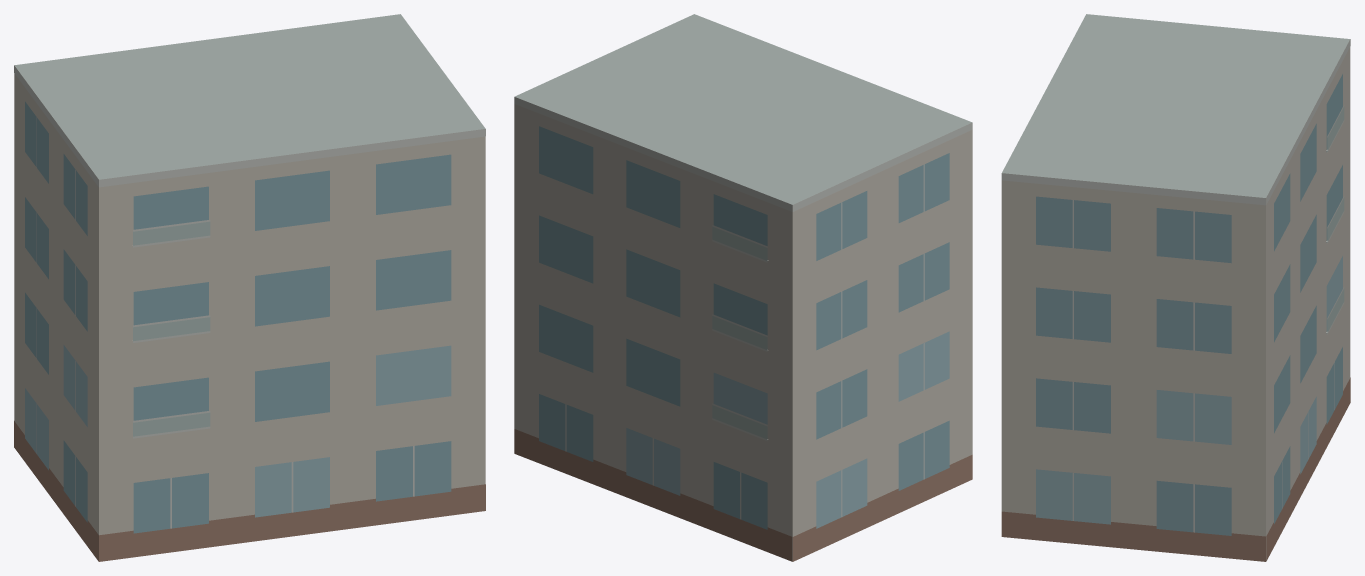
File: residential-6269a4a5-d19d-41ba-a3ca-abaf69841ede.glb
3 renders of one model, left to right at view 1: azimuth 30°, elevation 25°; view 2: azimuth 150°, elevation 25°; view 3: azimuth 270°, elevation 25°, orthographic. The views are drawn at different scales.
Visible parts, largest first — view 1: residential-6269a4a5-d19d-41ba-a3ca-abaf69841ede.tmp; view 2: residential-6269a4a5-d19d-41ba-a3ca-abaf69841ede.tmp; view 3: residential-6269a4a5-d19d-41ba-a3ca-abaf69841ede.tmp.
Part boxes in pixels (<box>): residential-6269a4a5-d19d-41ba-a3ca-abaf69841ede.tmp: <box>14,14,485,561</box>; residential-6269a4a5-d19d-41ba-a3ca-abaf69841ede.tmp: <box>514,14,972,561</box>; residential-6269a4a5-d19d-41ba-a3ca-abaf69841ede.tmp: <box>1001,14,1350,561</box>.
Size of the model in its own units: 13.25 by 12.2 by 10.61.
